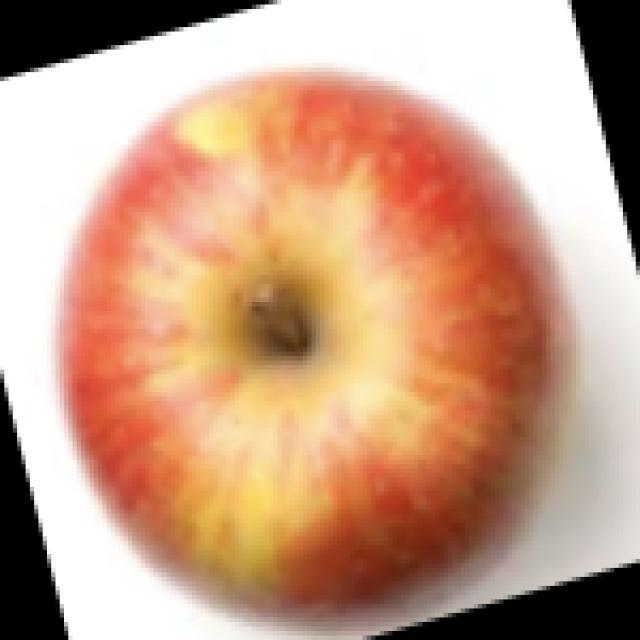Fresh Apple: (80, 70, 568, 605)
